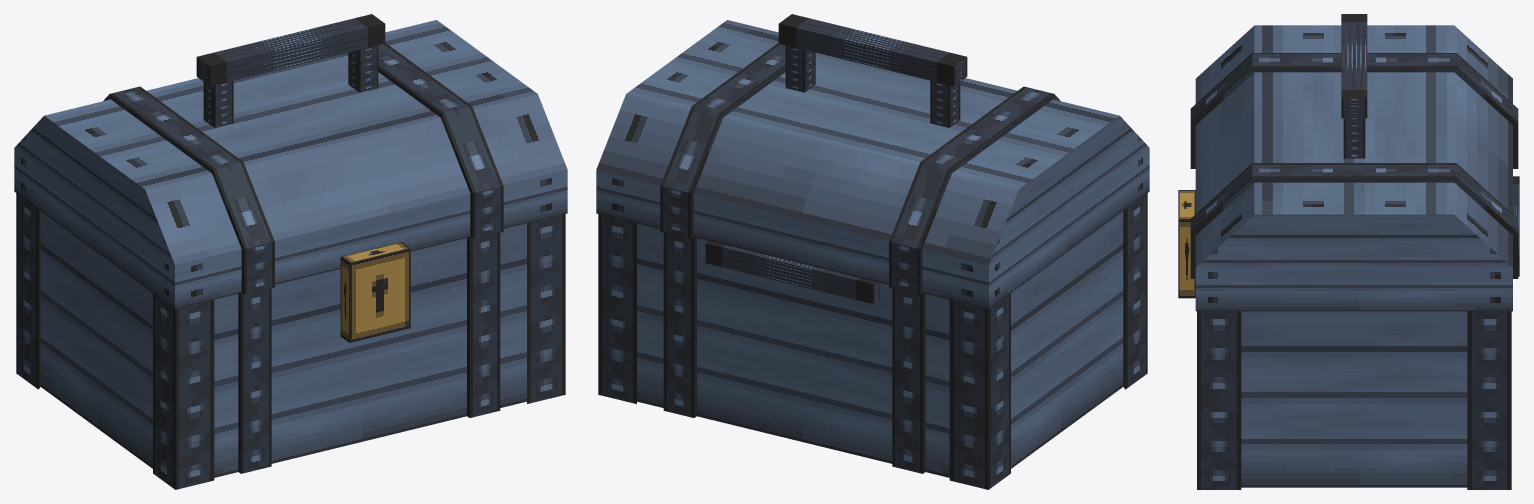
File: chest_guard.glb
3 views of the same model, side by side, from view 1: azimuth 30°, elevation 25°; view 2: azimuth 150°, elevation 25°; view 3: azimuth 270°, elevation 25° (orthographic).
Visible parts, largest first — view 1: lid, base, lock; view 2: lid, base; view 3: lid, base, lock.
Part boxes in pixels (left/top/right/bottom): lid: left=14, top=14, right=567, bottom=308; base: left=16, top=193, right=565, bottom=489; lock: left=340, top=242, right=410, bottom=342; lid: left=596, top=14, right=1149, bottom=308; base: left=598, top=193, right=1147, bottom=489; lid: left=1190, top=14, right=1518, bottom=311; base: left=1197, top=176, right=1519, bottom=489; lock: left=1178, top=190, right=1195, bottom=298.
Bounding box in the file's own units: 1.03 × 0.862 × 0.785.
Materials: 1 (1 with a texture image).
